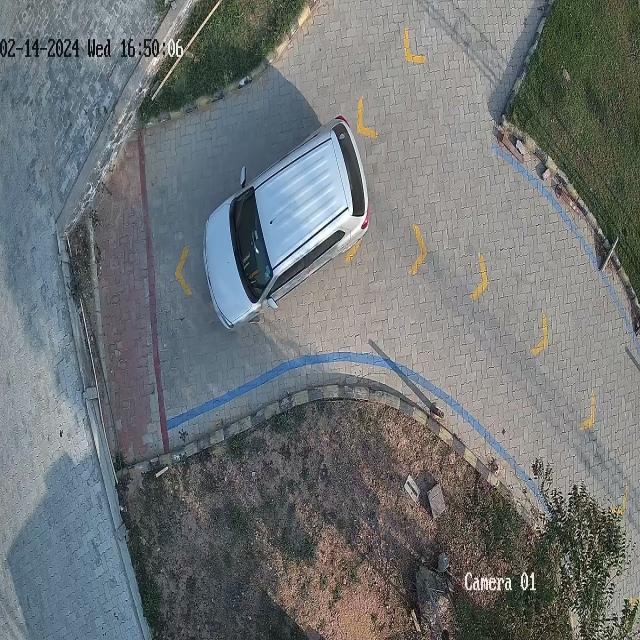car: (202, 116, 370, 331)
